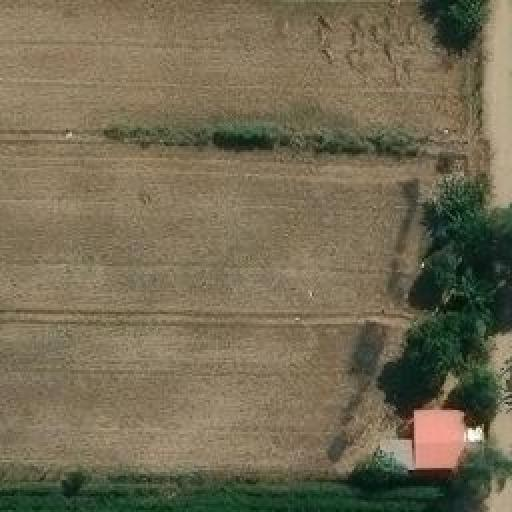manzanas: (372, 408, 488, 477)
